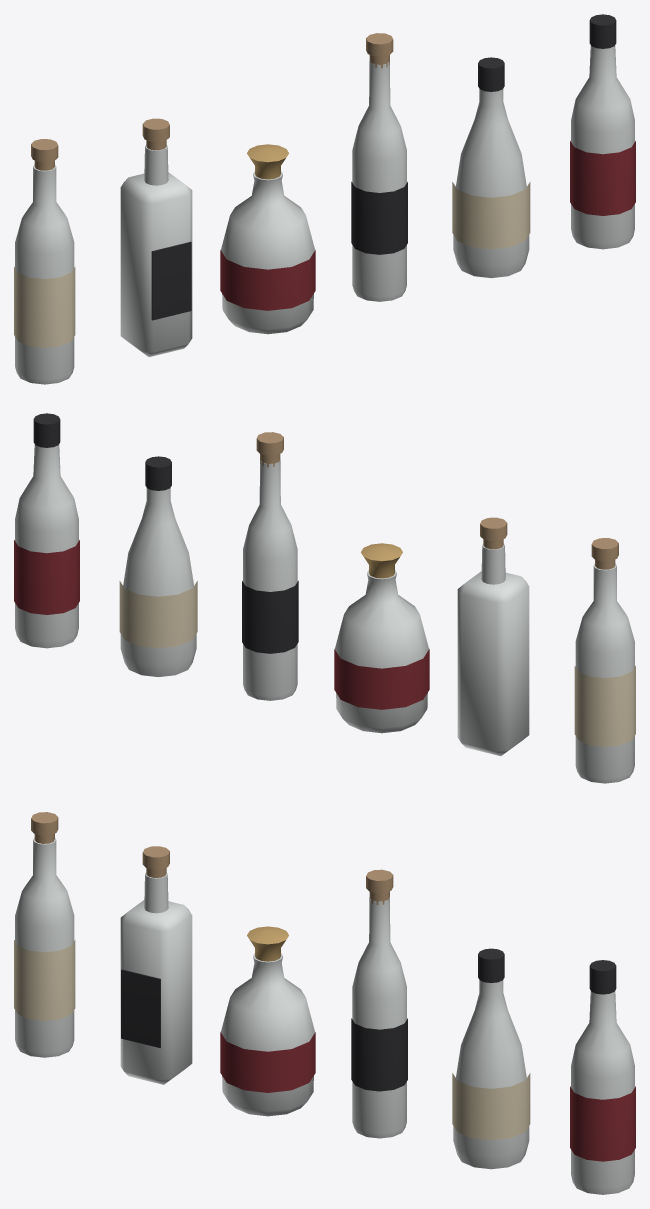
File: whiskey-bottles-lod1.glb
3 renders of one model, top to bottom at view 1: azimuth 30°, elevation 25°; view 2: azimuth 150°, elevation 25°; view 3: azimuth 330°, elevation 25°, orthographic.
Parts seen in each view (by area): view 1: whiskey-bottles.lod1__whiskey crystal, whiskey-bottles.lod1__whiskey label cream, whiskey-bottles.lod1__whiskey label ink, whiskey-bottles.lod1__whiskey label burgundy, whiskey-bottles.lod1__whiskey cork, whiskey-bottles.lod1__furniture brushed brass; view 2: whiskey-bottles.lod1__whiskey crystal, whiskey-bottles.lod1__whiskey label cream, whiskey-bottles.lod1__whiskey label burgundy, whiskey-bottles.lod1__whiskey label ink, whiskey-bottles.lod1__whiskey cork, whiskey-bottles.lod1__furniture brushed brass; view 3: whiskey-bottles.lod1__whiskey crystal, whiskey-bottles.lod1__whiskey label cream, whiskey-bottles.lod1__whiskey label burgundy, whiskey-bottles.lod1__whiskey label ink, whiskey-bottles.lod1__whiskey cork, whiskey-bottles.lod1__furniture brushed brass.
Part boxes in pixels (bbox=[...]): whiskey-bottles.lod1__whiskey crystal: bbox=[15, 45, 634, 384]; whiskey-bottles.lod1__whiskey label cream: bbox=[14, 182, 530, 347]; whiskey-bottles.lod1__whiskey label ink: bbox=[151, 14, 616, 320]; whiskey-bottles.lod1__whiskey label burgundy: bbox=[220, 141, 635, 310]; whiskey-bottles.lod1__whiskey cork: bbox=[31, 33, 393, 170]; whiskey-bottles.lod1__furniture brushed brass: bbox=[247, 144, 288, 179]; whiskey-bottles.lod1__whiskey crystal: bbox=[15, 444, 634, 783]; whiskey-bottles.lod1__whiskey label cream: bbox=[119, 581, 635, 746]; whiskey-bottles.lod1__whiskey label burgundy: bbox=[14, 540, 429, 709]; whiskey-bottles.lod1__whiskey label ink: bbox=[33, 413, 298, 653]; whiskey-bottles.lod1__whiskey cork: bbox=[256, 432, 618, 569]; whiskey-bottles.lod1__furniture brushed brass: bbox=[361, 543, 402, 578]; whiskey-bottles.lod1__whiskey crystal: bbox=[15, 837, 634, 1194]; whiskey-bottles.lod1__whiskey label cream: bbox=[14, 940, 530, 1140]; whiskey-bottles.lod1__whiskey label burgundy: bbox=[220, 1032, 635, 1161]; whiskey-bottles.lod1__whiskey label ink: bbox=[121, 948, 616, 1091]; whiskey-bottles.lod1__whiskey cork: bbox=[31, 812, 393, 904]; whiskey-bottles.lod1__furniture brushed brass: bbox=[247, 926, 288, 961].
Bounding box in the file's own units: 0.934 × 0.367 × 0.1256.
